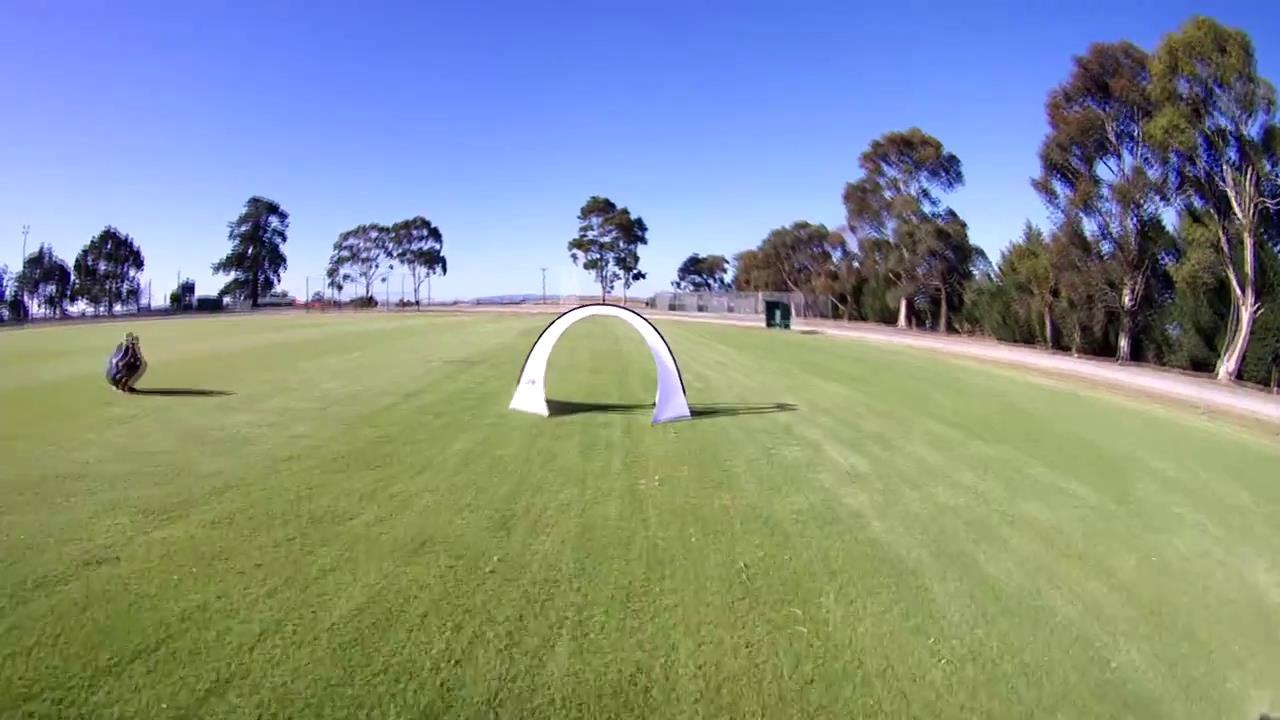gate: (505, 302, 694, 427)
